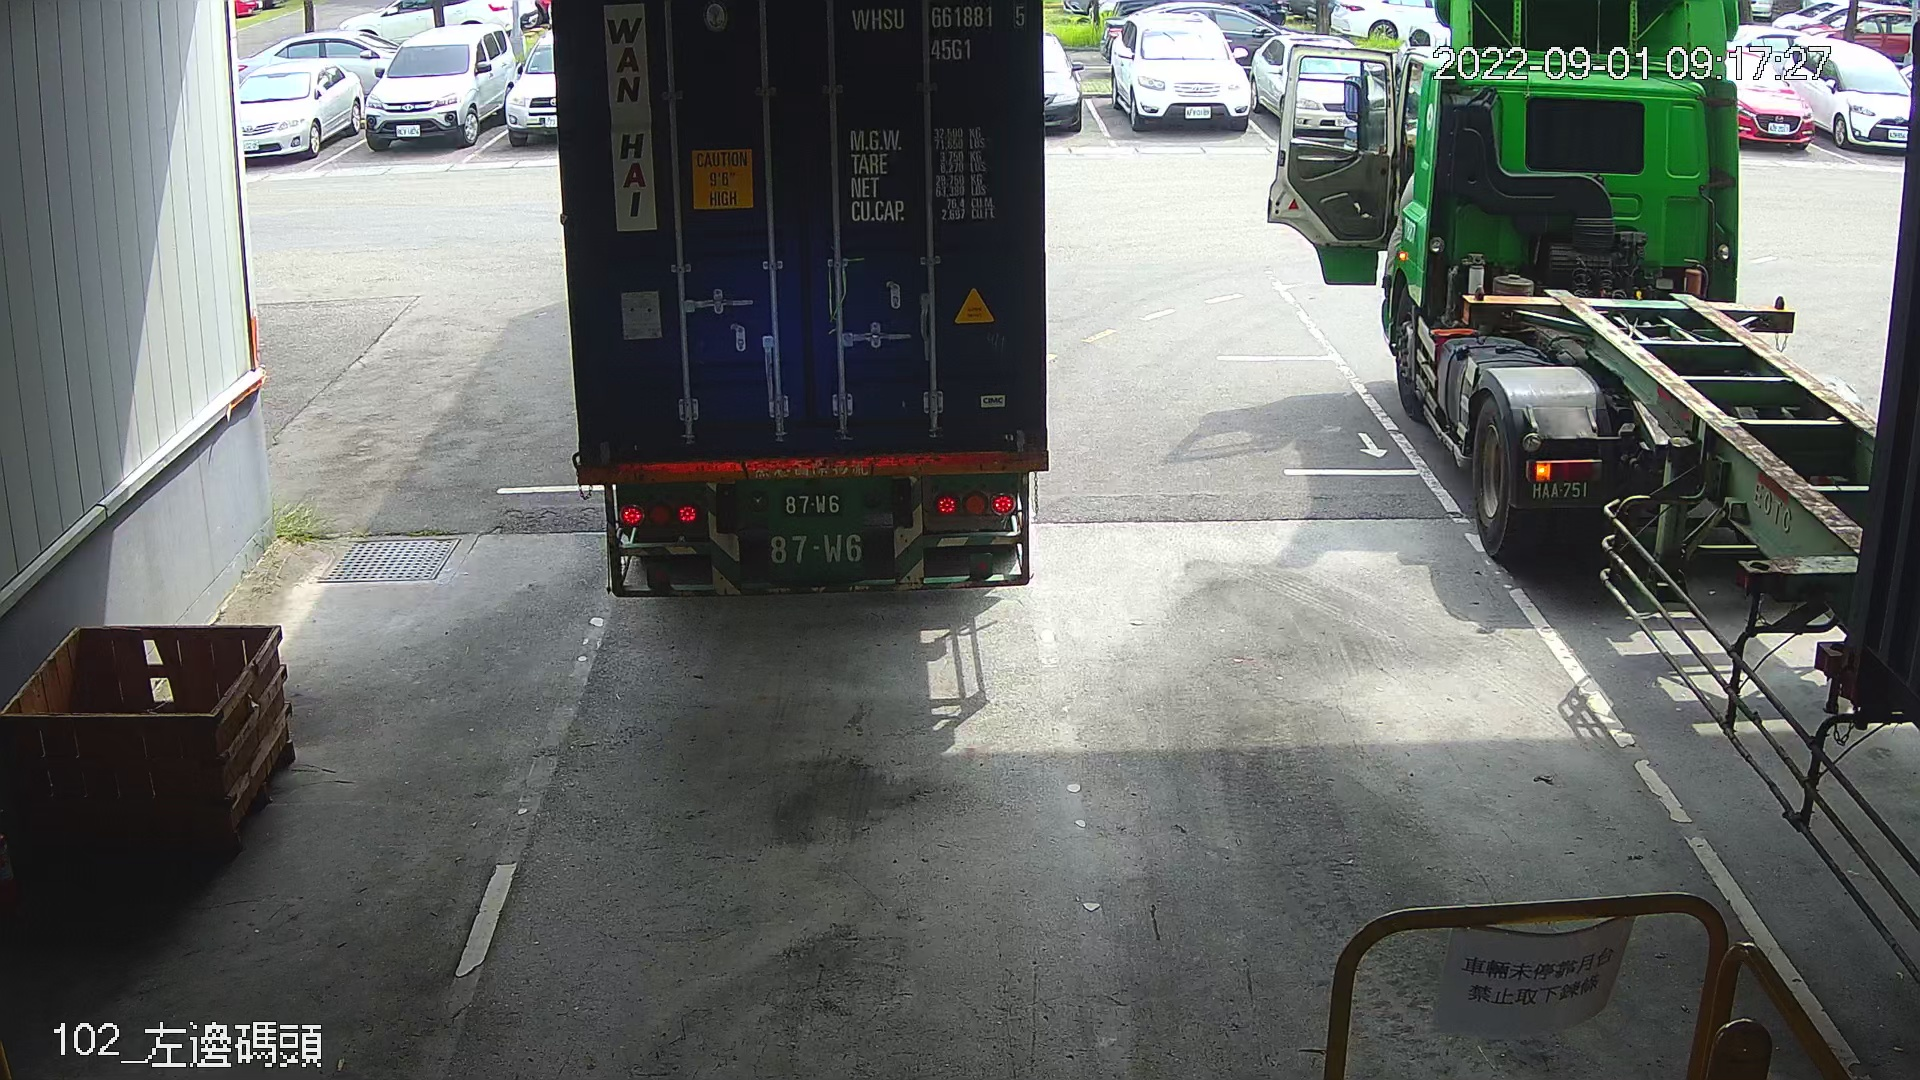container: (845, 3, 1033, 67)
